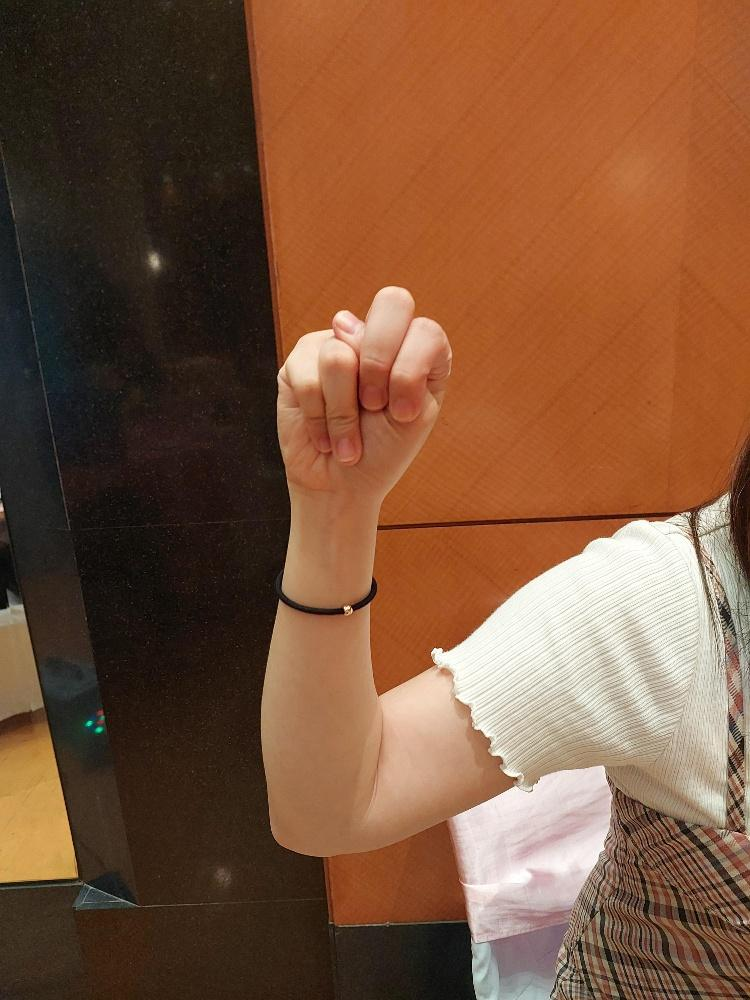n: (272, 281, 453, 505)
